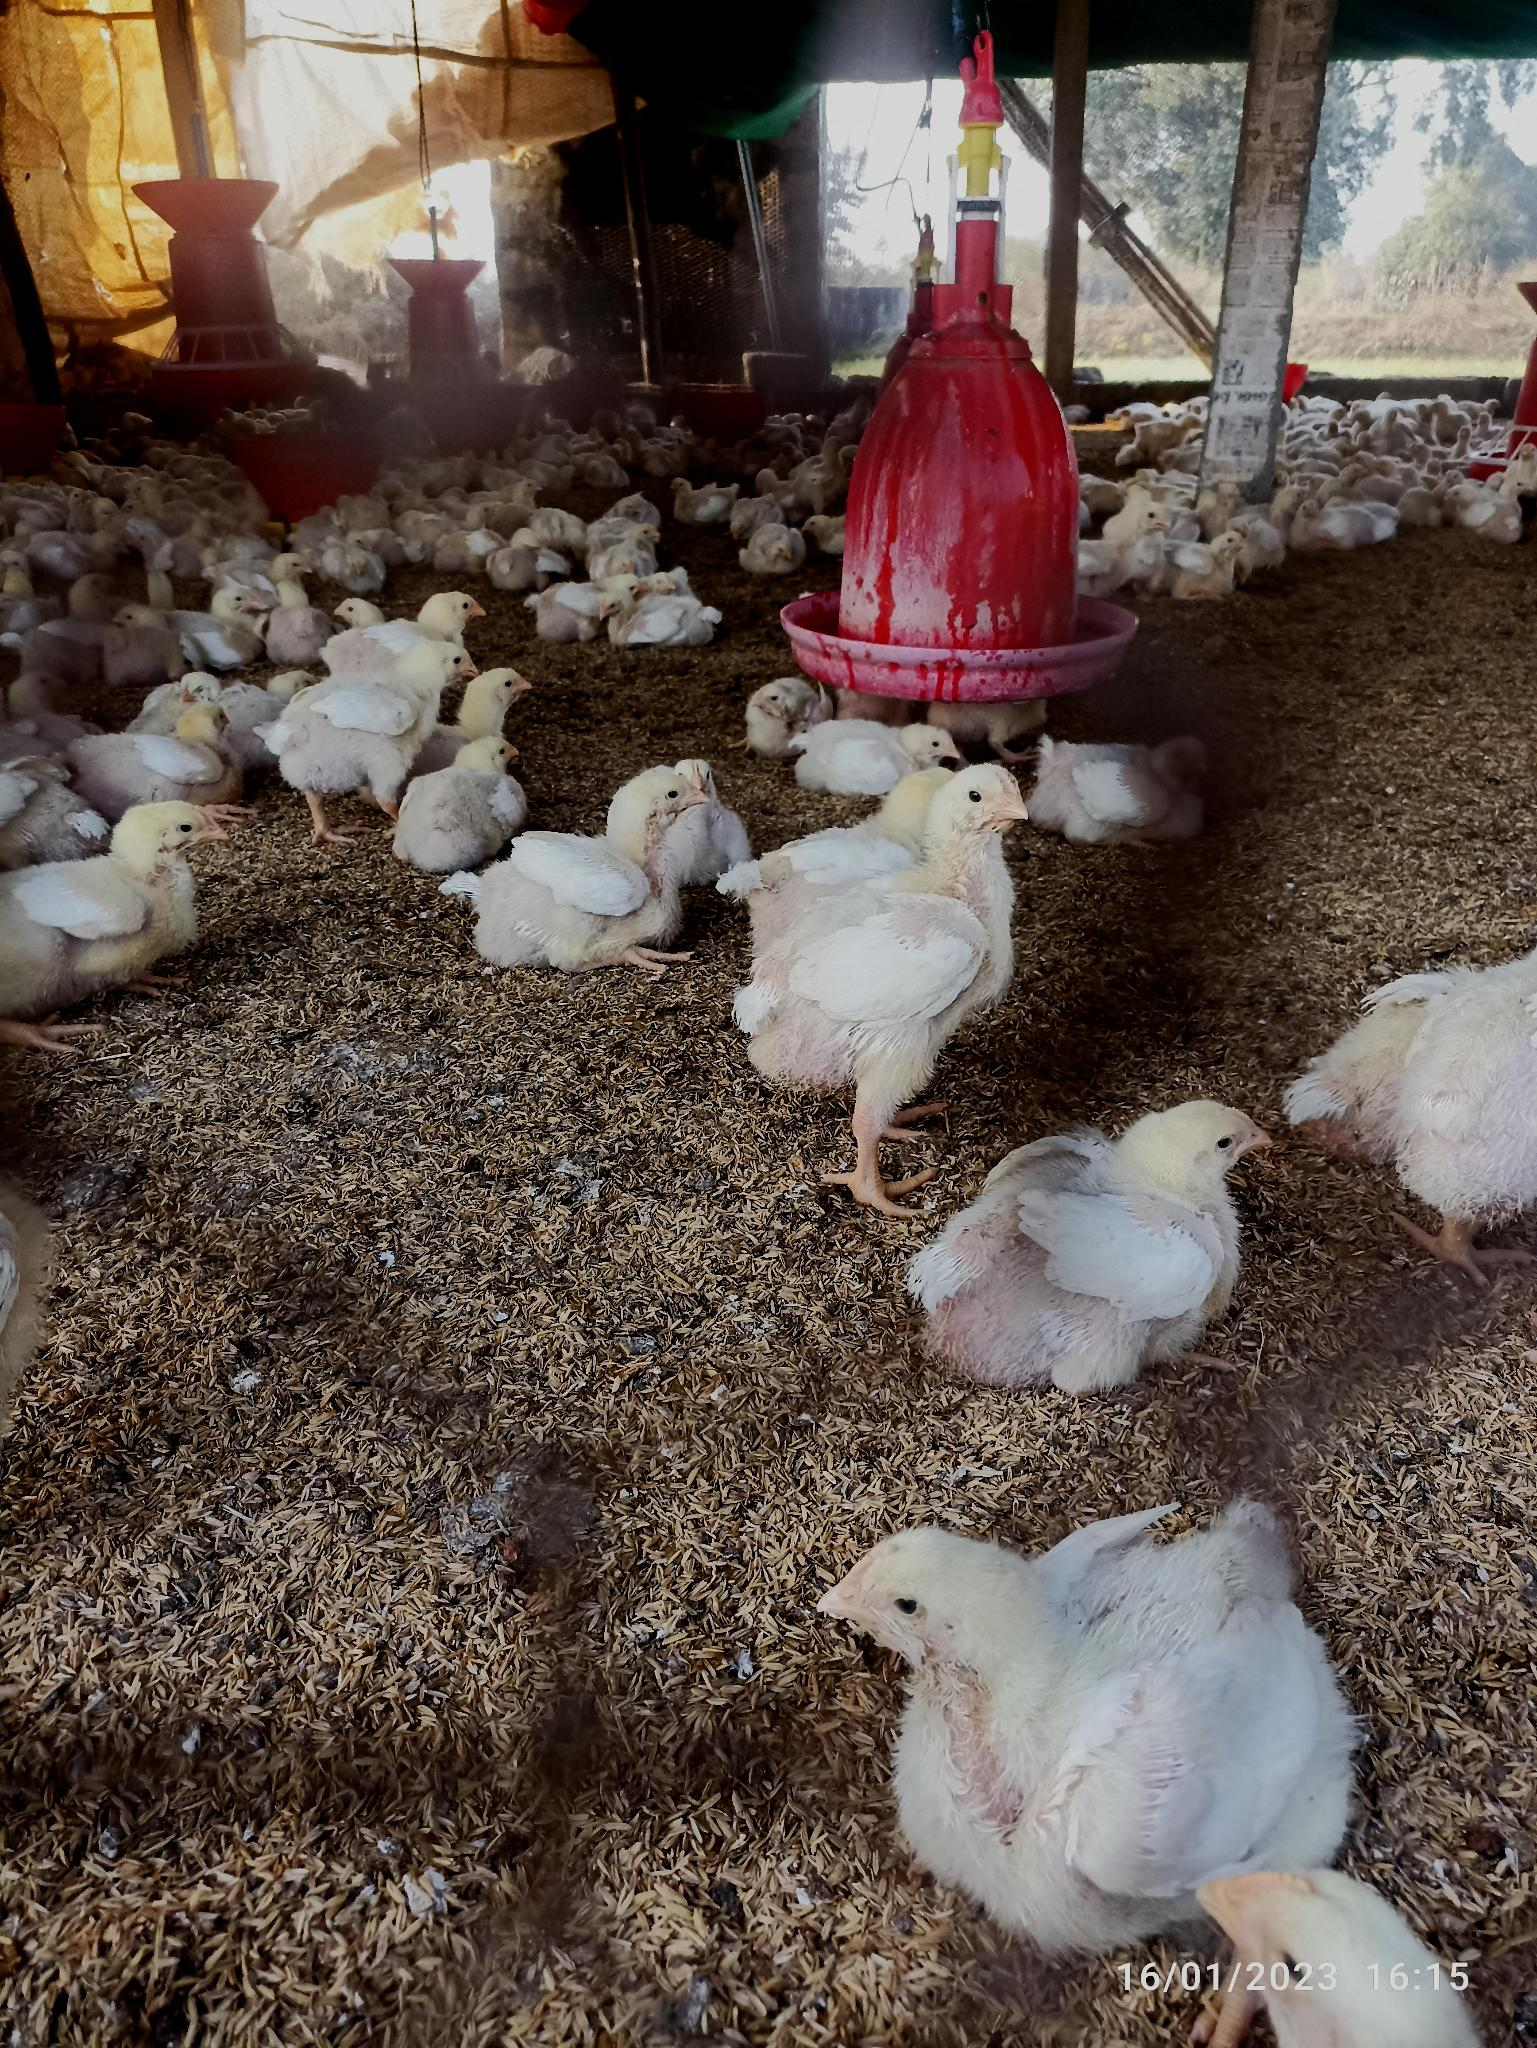Pollos: (812, 1507, 1359, 1867), (896, 1093, 1287, 1393), (738, 762, 1032, 1102), (2, 797, 232, 1005), (257, 641, 488, 810), (505, 775, 702, 968), (1037, 733, 1221, 846), (82, 660, 241, 788), (400, 741, 534, 857), (801, 720, 954, 800), (173, 584, 268, 657), (597, 599, 722, 649), (751, 679, 827, 749), (102, 610, 166, 668), (273, 550, 320, 628), (484, 536, 551, 587), (739, 528, 815, 571), (676, 479, 743, 521)
